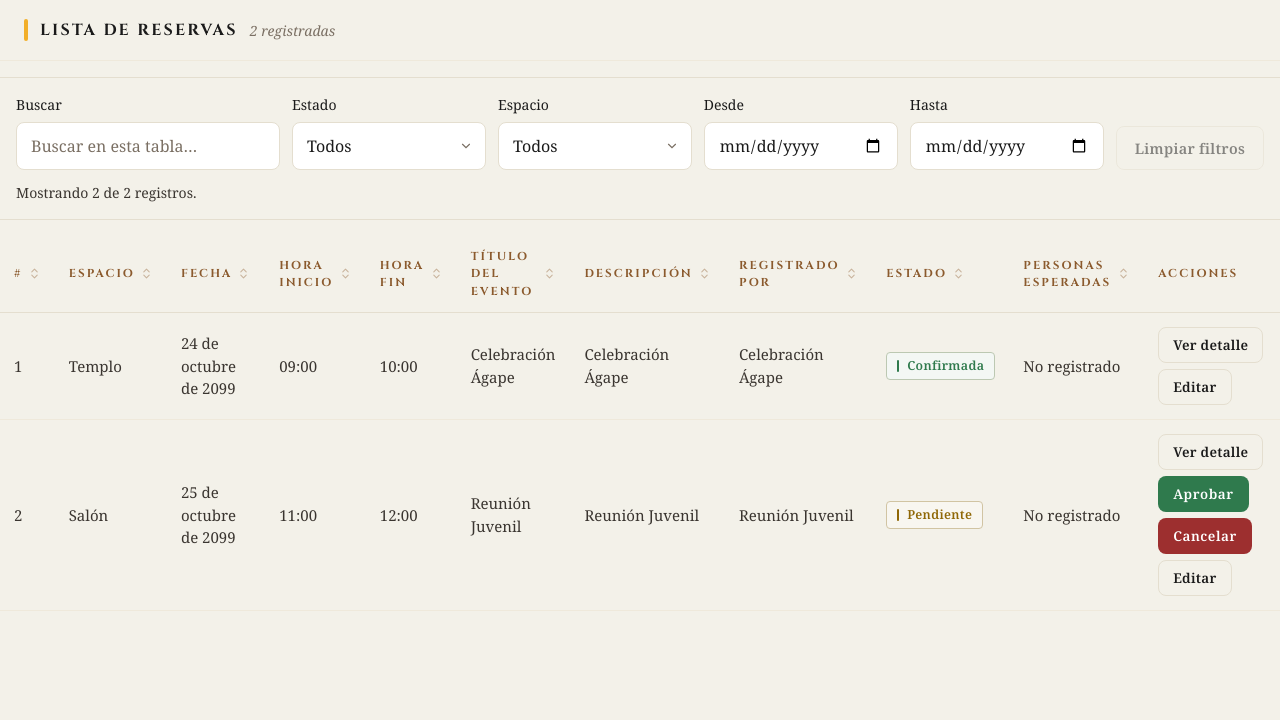
filtros reales en las tablas principales › abre y cierra el historial desde reservas sin modificar los datos
Click the button "Ver detalle" in the row of "Templo" at (1211, 345), box [1158,327,1263,363]
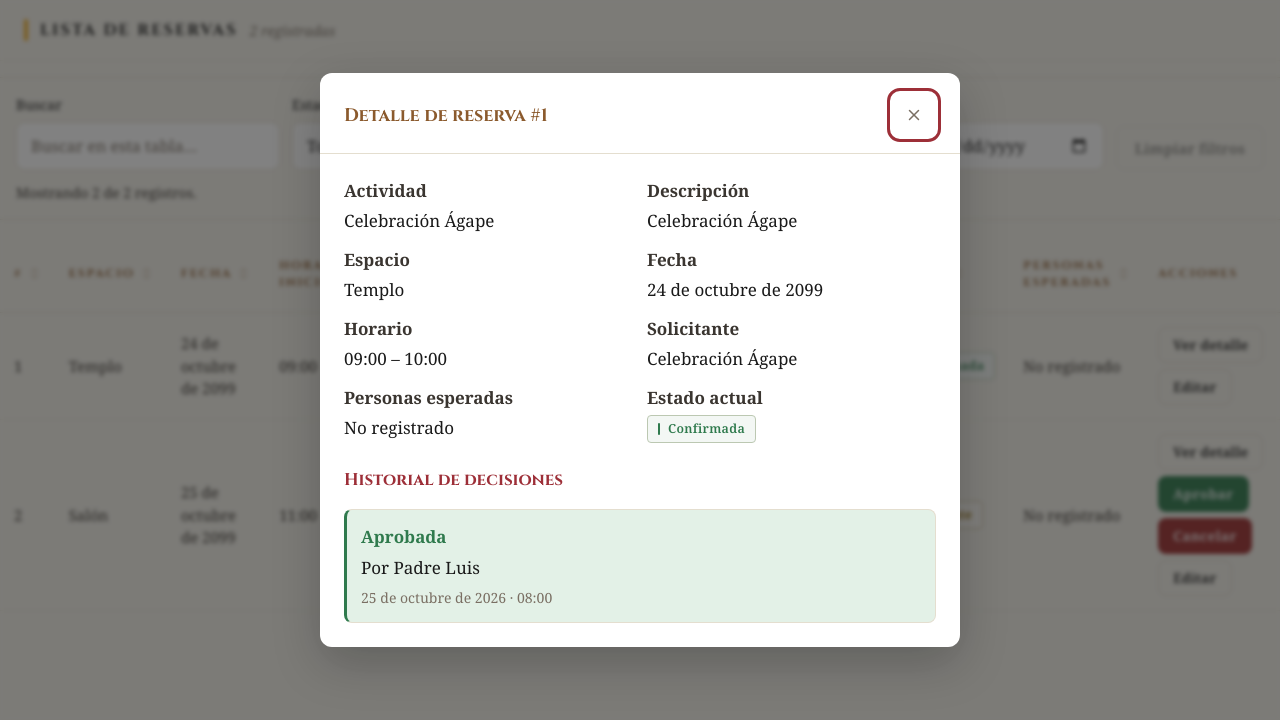
Check: the text "Por Padre Luis" is shown, box [361,556,480,579]
Click the button named "Cerrar" at (914, 115), box [892,93,936,137]
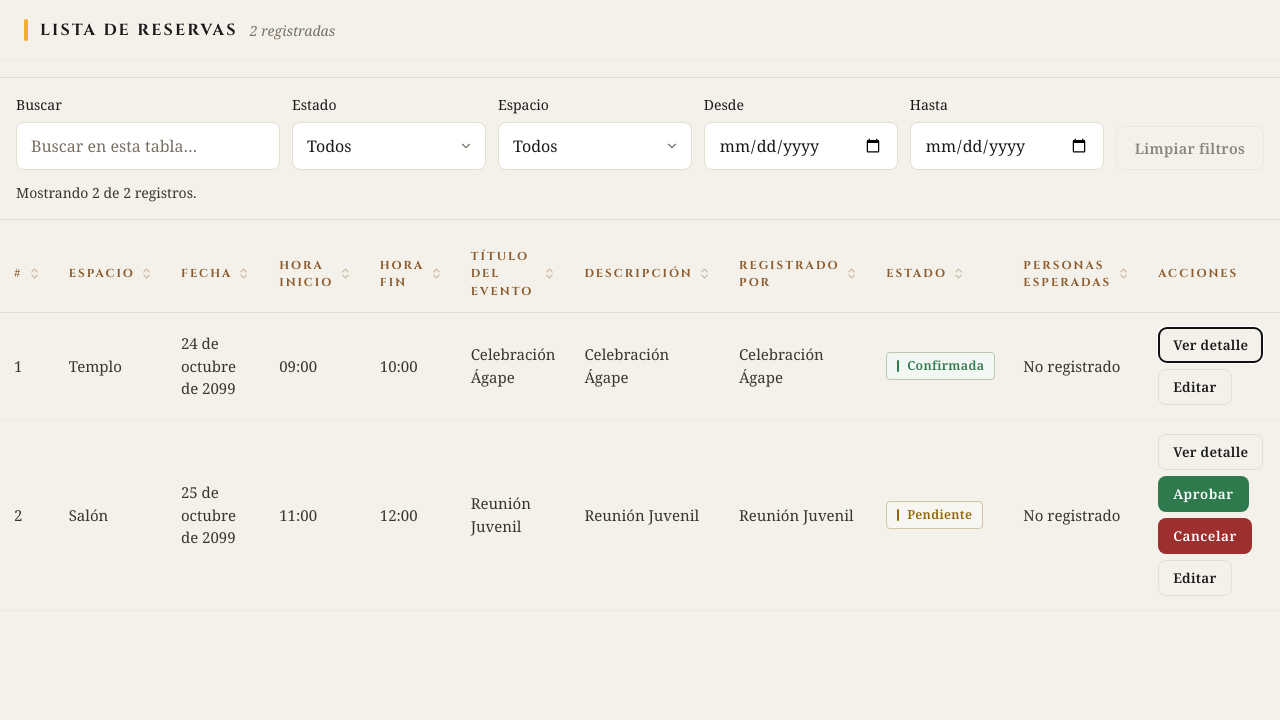
Check: the dialog is gone
